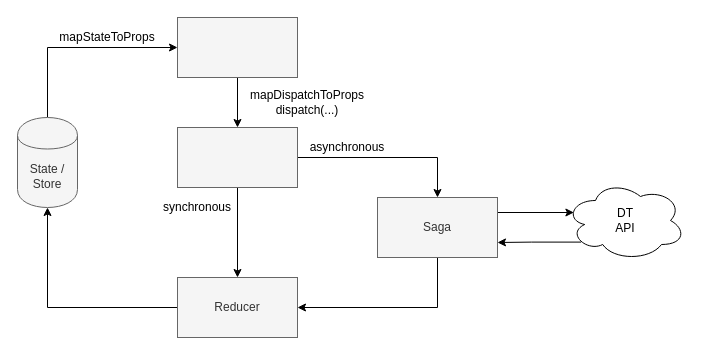
Image size: 703x355. Some labels were removed from this diagram. The shapes that lost their labels are listed below. From the top down, each one's centre as x and y in pixels, then its label:
At [237,47]: "Component".
At [237,157]: "Action".
